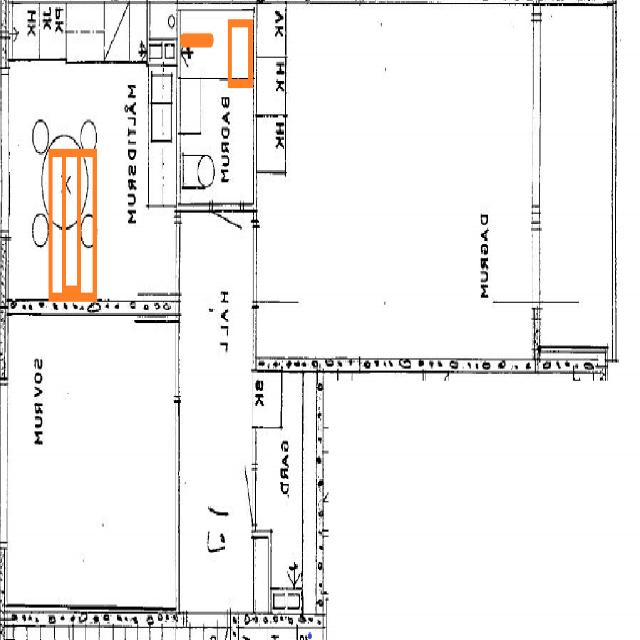door: (254, 226, 295, 303), (533, 230, 576, 302), (140, 322, 181, 397), (498, 230, 540, 302), (141, 220, 181, 294), (210, 202, 242, 276), (225, 464, 257, 521)
